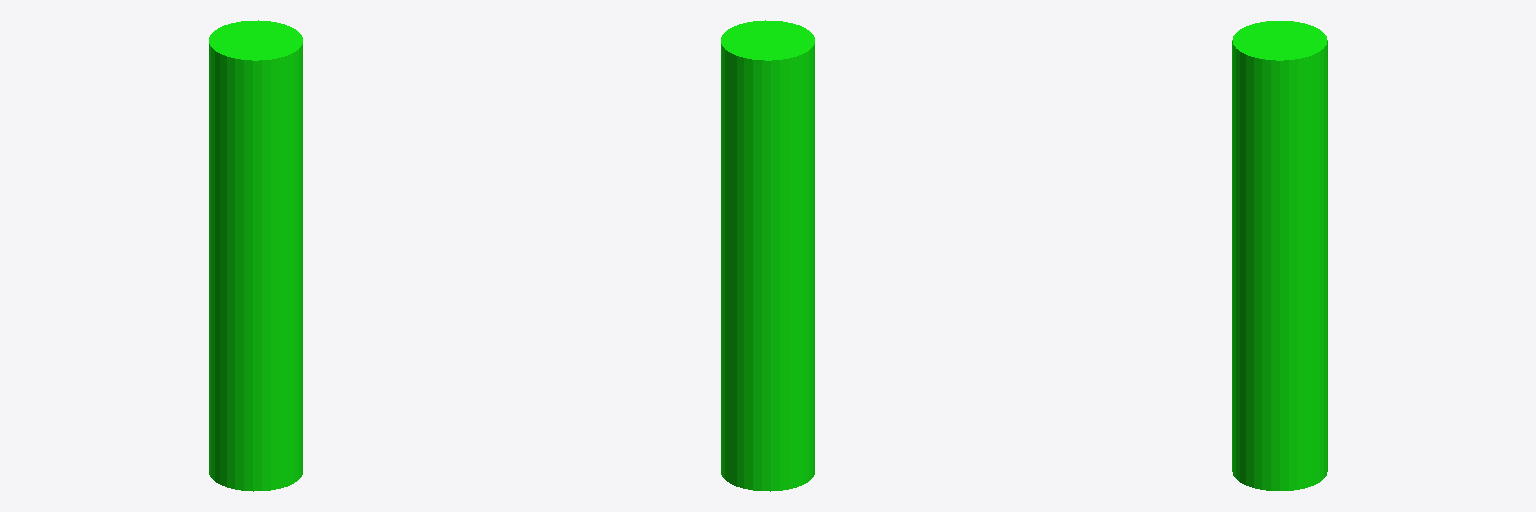
The robot description file, URDF, robot "pusher_peg":
<?xml version="1.0"?>
<robot name="pusher_peg">

  <material name="Green">
    <color rgba="0.1 1.0 0.1 1.0"/>
  </material>

  <link name="base"/>
  <link name="slider"/>

  <link name="end_effector">
    <inertial>
      <mass value="1" />
      <origin xyz="0 0 0" rpy="0 0 0"/>
      <inertia ixx="1"  ixy="0"  ixz="0" iyy="1" iyz="0" izz="1" />
    </inertial>
    <visual>
      <origin xyz="0 0 0.051" rpy="0 0 0" />
      <geometry>
        <cylinder radius="0.01" length="0.1"/>
      </geometry>
      <material name="Green"/>
    </visual>
    <collision>
      <origin xyz="0 0 0.051" rpy="0 0 0" />
      <geometry>
        <cylinder radius="0.01" length="0.1"/>
      </geometry>
    </collision>
  </link>

  <joint name="xslide" type="prismatic">
    <origin rpy="0 0 0" xyz="0 0 0"/>
    <axis xyz="1 0 0"/>
    <parent link="base"/>
    <child link="slider"/>
  </joint>
  <joint name="yslide" type="prismatic">
    <origin rpy="0 0 0" xyz="0 0 0"/>
    <axis xyz="0 1 0"/>
    <parent link="slider"/>
    <child link="end_effector"/>
  </joint>

  <transmission name="xslide_transmission">
    <type>transmission_interface/SimpleTransmission</type>
    <joint name="xslide"/>
    <actuator name="xslide_actuator">
      <mechanicalReduction>1</mechanicalReduction>
    </actuator>
  </transmission>
  <transmission name="yslide_transmission">
    <type>transmission_interface/SimpleTransmission</type>
    <joint name="yslide"/>
    <actuator name="yslide_actuator">
      <mechanicalReduction>1</mechanicalReduction>
    </actuator>
  </transmission>

</robot>

--- Facts derived from the render (not from the file) ---
3 views of the same robot in one strip: view 1: azimuth 30°, elevation 25°; view 2: azimuth 150°, elevation 25°; view 3: azimuth 270°, elevation 25° (orthographic).
Robot: pusher_peg — 3 links, 2 joints (2 prismatic); root link base; default pose: every joint at zero.
Links seen in each view (by area): view 1: end_effector; view 2: end_effector; view 3: end_effector.
Boxes of the visible links, box(x1,y1,x2,y2) form: end_effector: box(209, 20, 302, 491); end_effector: box(721, 20, 814, 491); end_effector: box(1232, 21, 1327, 490).
Size in the robot's own frame: 0.02 by 0.02 by 0.1 metres.
Geometry: primitives only (box / cylinder / sphere), no mesh files.